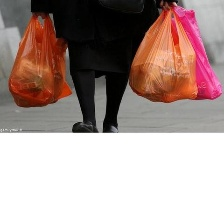plastic_bag: (5, 5, 74, 110), (125, 3, 195, 103), (162, 1, 223, 100)
